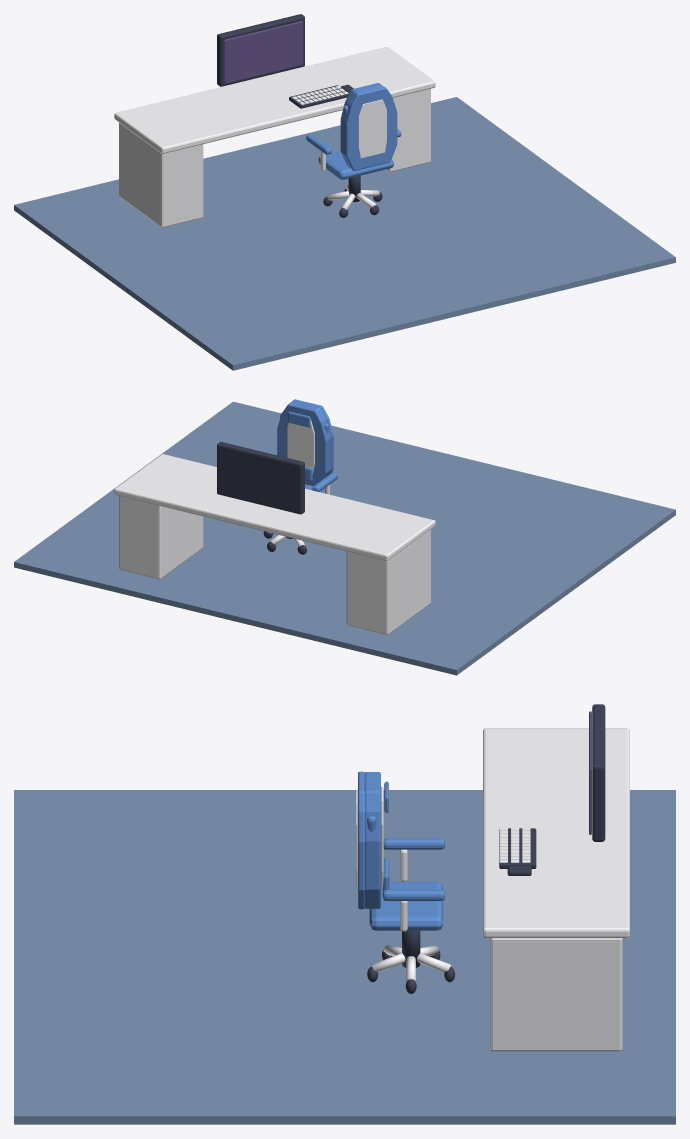
Rendered from fixture-production.glb.
3 views of the same model, one above another, from view 1: azimuth 30°, elevation 25°; view 2: azimuth 150°, elevation 25°; view 3: azimuth 270°, elevation 25° (orthographic). The views are drawn at different scales.
Visible parts, largest first — view 1: fixture-floor, desk, desk-pedestal, monitor-screen-proof, desk-pedestal.001, chair-white-shell, chair-rear-accent, monitor-proof, chair-seat, chair-back; view 2: fixture-floor, desk, desk-pedestal, desk-pedestal.001, monitor-proof, chair-back, chair-back-insert; view 3: fixture-floor, desk, desk-pedestal.001, chair-seat, chair-back, monitor-proof, chair-white-shell, chair-arm.001, chair-arm, keyboard-proof.
Boxes of the visible parts, x1,y1,x2,y2 form: fixture-floor: [14, 97, 675, 370]; desk: [114, 47, 435, 153]; desk-pedestal: [119, 122, 203, 227]; monitor-screen-proof: [224, 21, 303, 83]; desk-pedestal.001: [386, 88, 430, 172]; chair-white-shell: [345, 86, 397, 170]; chair-rear-accent: [358, 99, 386, 158]; monitor-proof: [217, 14, 304, 86]; chair-seat: [318, 151, 393, 179]; chair-back: [340, 83, 383, 168]; fixture-floor: [14, 401, 675, 675]; desk: [114, 454, 435, 560]; desk-pedestal: [346, 530, 430, 634]; desk-pedestal.001: [119, 496, 203, 579]; monitor-proof: [217, 442, 304, 514]; chair-back: [277, 401, 331, 485]; chair-back-insert: [287, 419, 314, 473]; fixture-floor: [14, 790, 675, 1124]; desk: [483, 728, 629, 937]; desk-pedestal.001: [490, 938, 622, 1051]; chair-seat: [369, 882, 443, 930]; chair-back: [364, 772, 380, 908]; monitor-proof: [592, 704, 605, 841]; chair-white-shell: [358, 771, 364, 909]; chair-arm.001: [382, 889, 445, 900]; chair-arm: [383, 838, 445, 849]; keyboard-proof: [499, 828, 536, 868].
Size of the model in its own units: 4.2 by 1.36 by 3.6.
